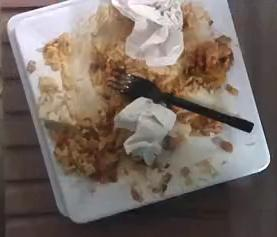rice_mix: (42, 33, 132, 182)
